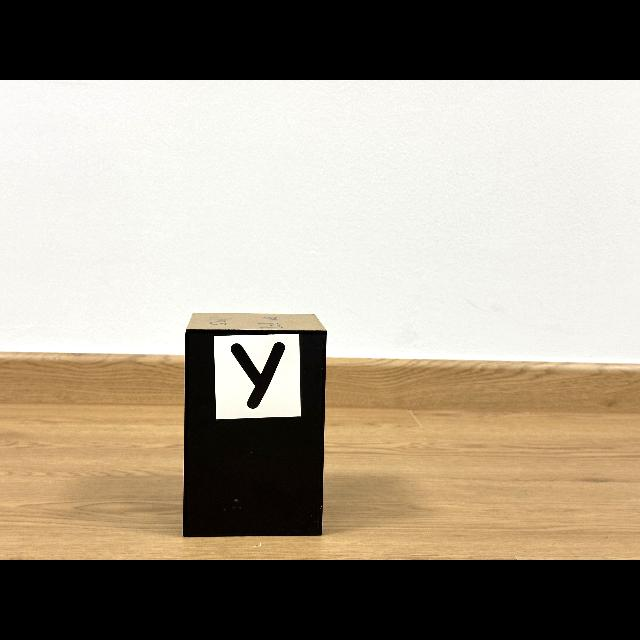Y: (231, 342, 285, 409)
